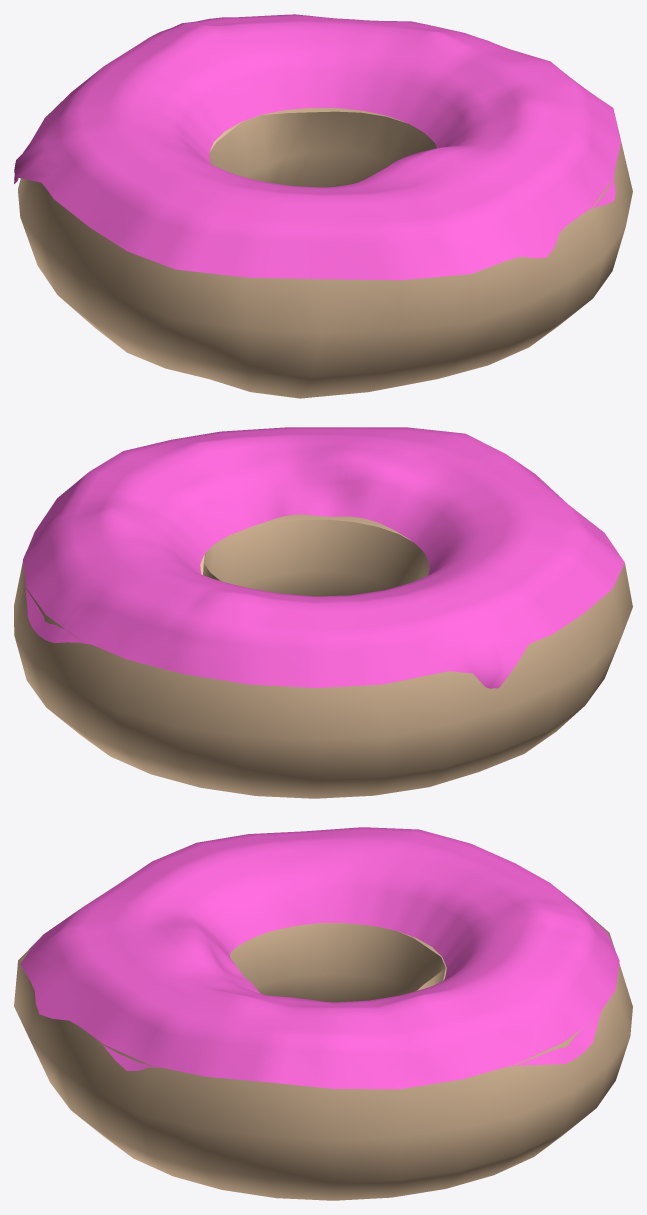
3 renders of one model, top to bottom at view 1: azimuth 30°, elevation 25°; view 2: azimuth 150°, elevation 25°; view 3: azimuth 270°, elevation 25°, orthographic. The views are drawn at different scales.
Visible parts, largest first — view 1: Icing, donut; view 2: Icing, donut; view 3: Icing, donut.
Boxes of the visible parts, x1,y1,x2,y2 form: Icing: (14,14,620,280); donut: (18,107,632,398); Icing: (23,427,624,688); donut: (14,514,632,798); Icing: (20,827,619,1089); donut: (14,912,632,1200).
Bounding box in the file's own units: 0.2995 × 0.1063 × 0.3097.
